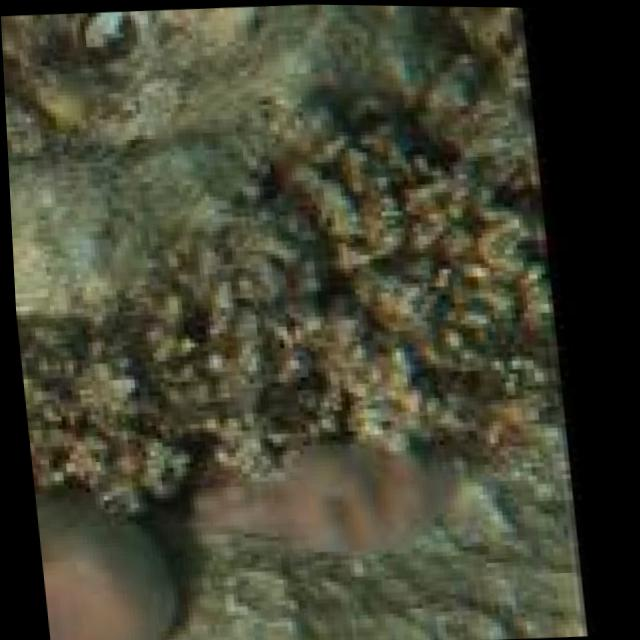Dead Coral: (3, 74, 548, 518)
